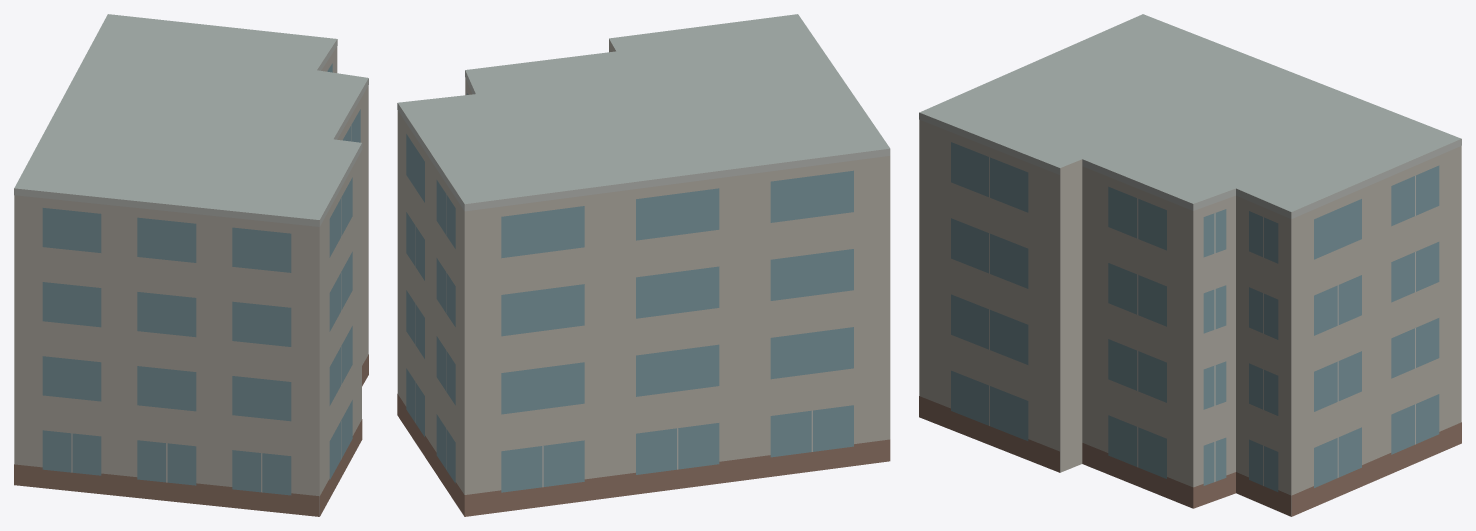
Rendered from survey-upis-32751992.glb.
The picture shows the model from 3 angles, left to right: view 1: azimuth 30°, elevation 25°; view 2: azimuth 150°, elevation 25°; view 3: azimuth 270°, elevation 25°; orthographic projection. The views are drawn at different scales.
Parts seen in each view (by area): view 1: survey-upis-32751992.tmp; view 2: survey-upis-32751992.tmp; view 3: survey-upis-32751992.tmp.
Part boxes in pixels (x1,y1,x2,y2): survey-upis-32751992.tmp: [14, 14, 368, 516]; survey-upis-32751992.tmp: [397, 14, 890, 516]; survey-upis-32751992.tmp: [919, 14, 1461, 516].
Bounding box in the file's own units: 14.82 × 10.62 × 17.14.
